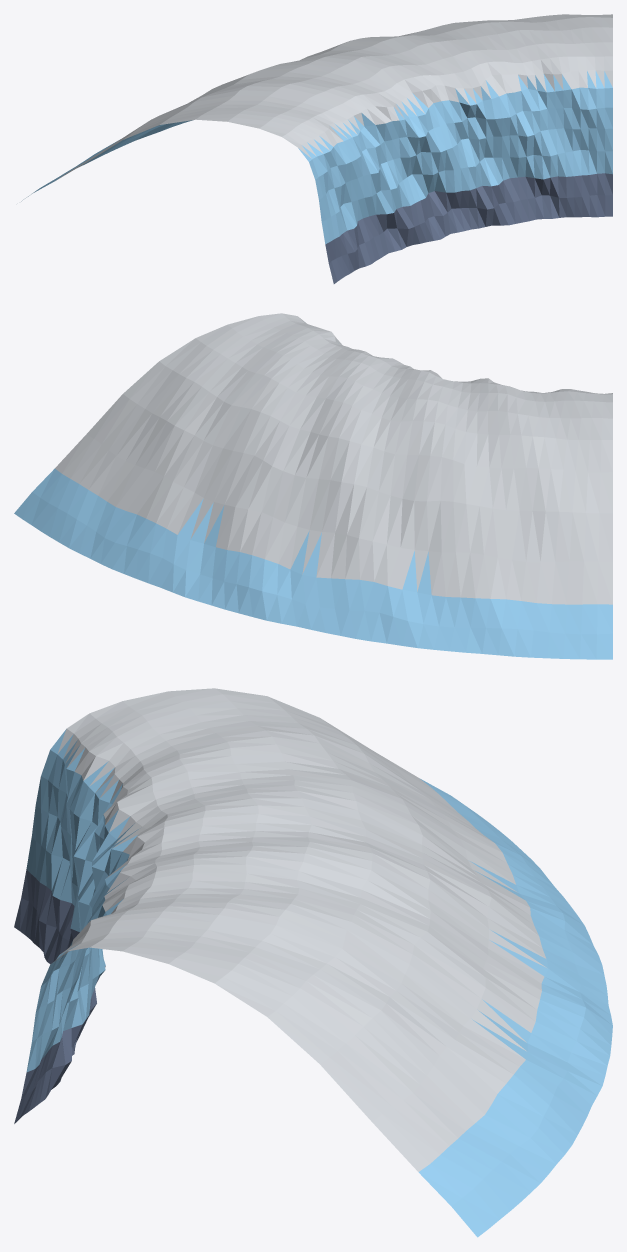
File: SpleefCliff.obj
The picture shows the model from 3 angles, top to bottom: view 1: azimuth 30°, elevation 25°; view 2: azimuth 150°, elevation 25°; view 3: azimuth 270°, elevation 25°; orthographic projection. The views are drawn at different scales.
Parts seen in each view (by area): view 1: Snow, Ice, Rock; view 2: Snow, Ice; view 3: Snow, Ice, Rock.
Boxes of the visible parts, x1=… form: Snow: x1=56, y1=14, x2=612, y2=180; Ice: x1=21, y1=71, x2=612, y2=244; Rock: x1=325, y1=173, x2=612, y2=283; Snow: x1=55, y1=313, x2=612, y2=604; Ice: x1=14, y1=468, x2=612, y2=659; Snow: x1=53, y1=688, x2=546, y2=1171; Ice: x1=26, y1=729, x2=612, y2=1237; Rock: x1=14, y1=869, x2=105, y2=1123.
Bounding box in the file's own units: 132 × 29.5 × 78.89.
